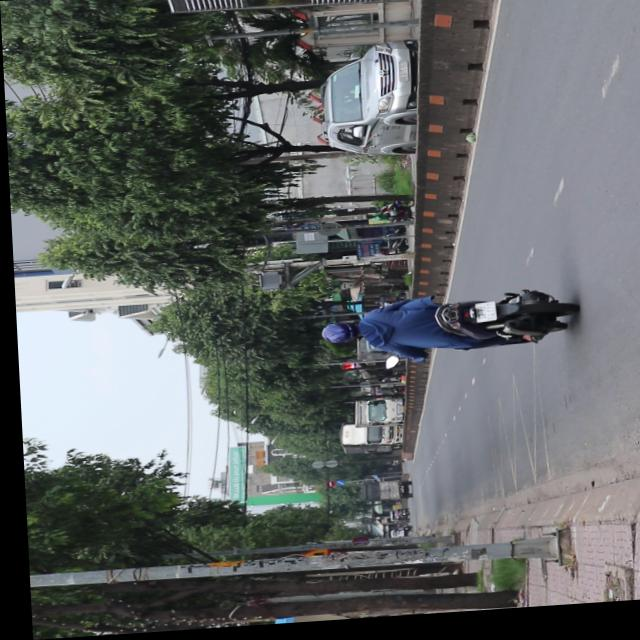helmet: (316, 323, 355, 349)
licenseplate: (312, 290, 573, 368)
nohelmet: (470, 307, 492, 328)
